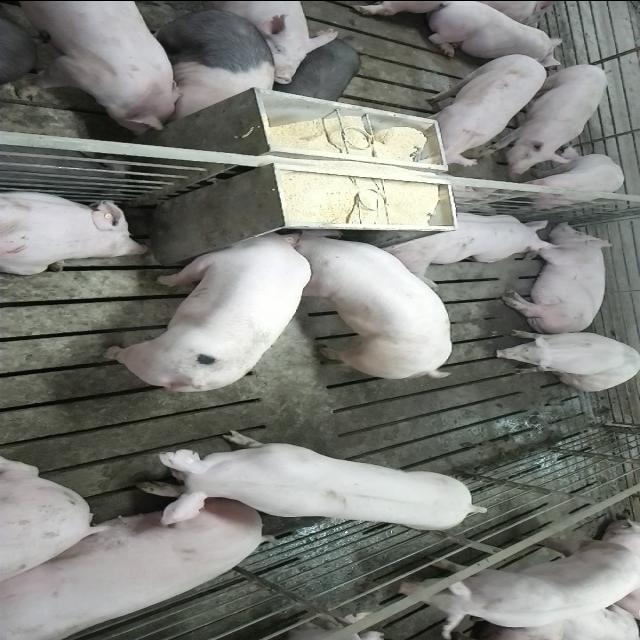Feeding: (101, 220, 313, 388), (280, 230, 458, 384)
Lateral_lying: (499, 221, 617, 333)
Sitting: (492, 328, 640, 390)
Standing: (130, 429, 490, 533), (398, 529, 640, 640), (0, 2, 186, 136), (130, 3, 276, 126), (413, 51, 549, 165), (481, 60, 612, 173), (502, 153, 628, 210)
Sternal_lying: (0, 186, 149, 274), (378, 208, 556, 276), (425, 3, 567, 63)
